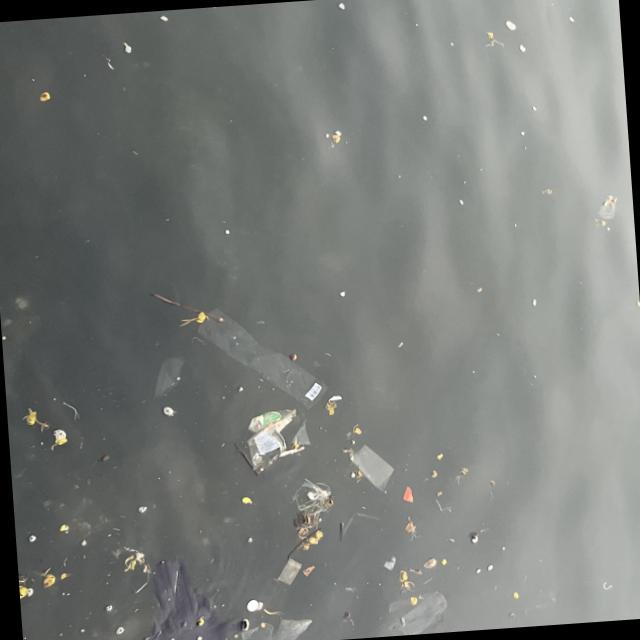plastic bag: (235, 408, 312, 471)
